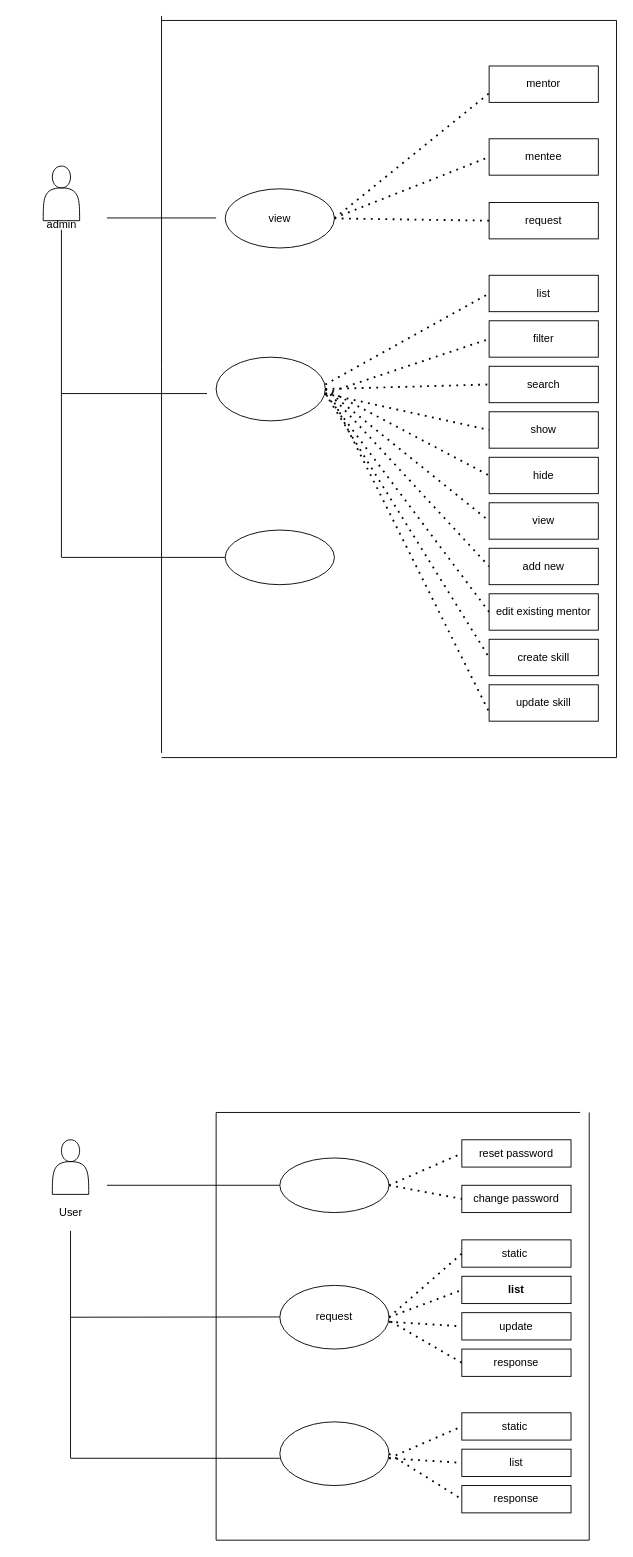
Image size: 633x1557. Some labels were removed from this diagram. Each missing label, with the centre of its shape:
invitation: the point at 334,1453
mentor management: the point at 270,388
Sign in: the point at 334,1185
static all mentee: the point at 279,557
